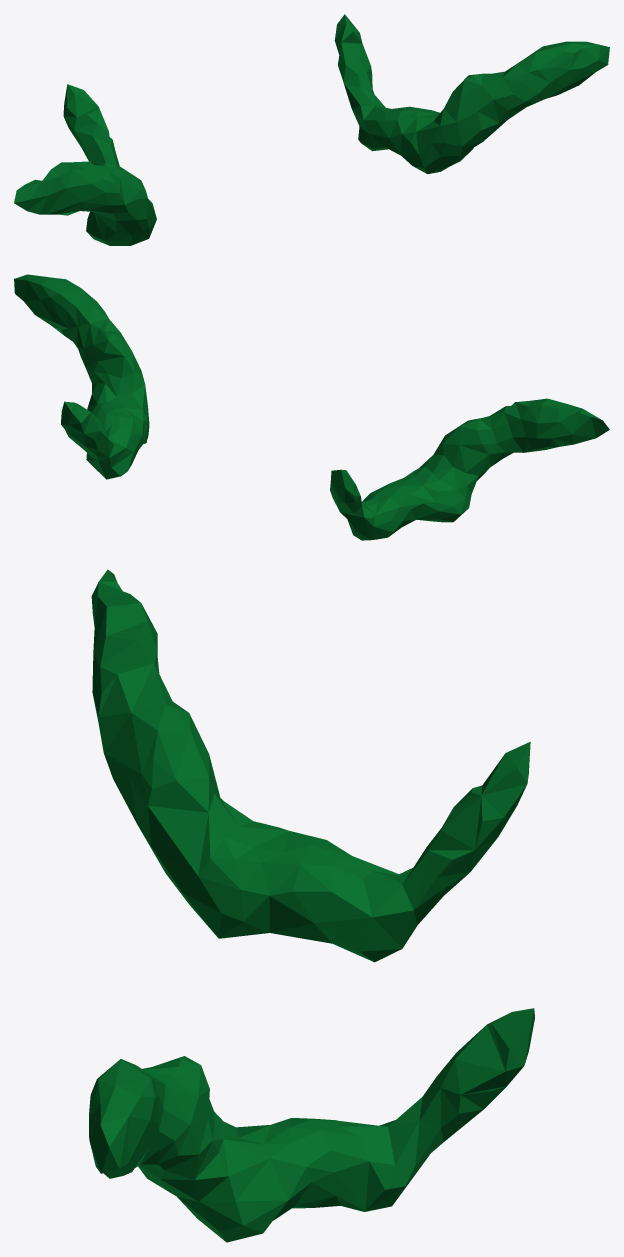
Rendered from 95-APir-amygdalopiriform transition area-('0.0000', '0.4980', '0.1882').obj.
The picture shows the model from 3 angles, top to bottom: view 1: azimuth 30°, elevation 25°; view 2: azimuth 150°, elevation 25°; view 3: azimuth 270°, elevation 25°; orthographic projection. The views are drawn at different scales.
Bounding box in the file's own units: 156 × 30.4 × 50.73.
